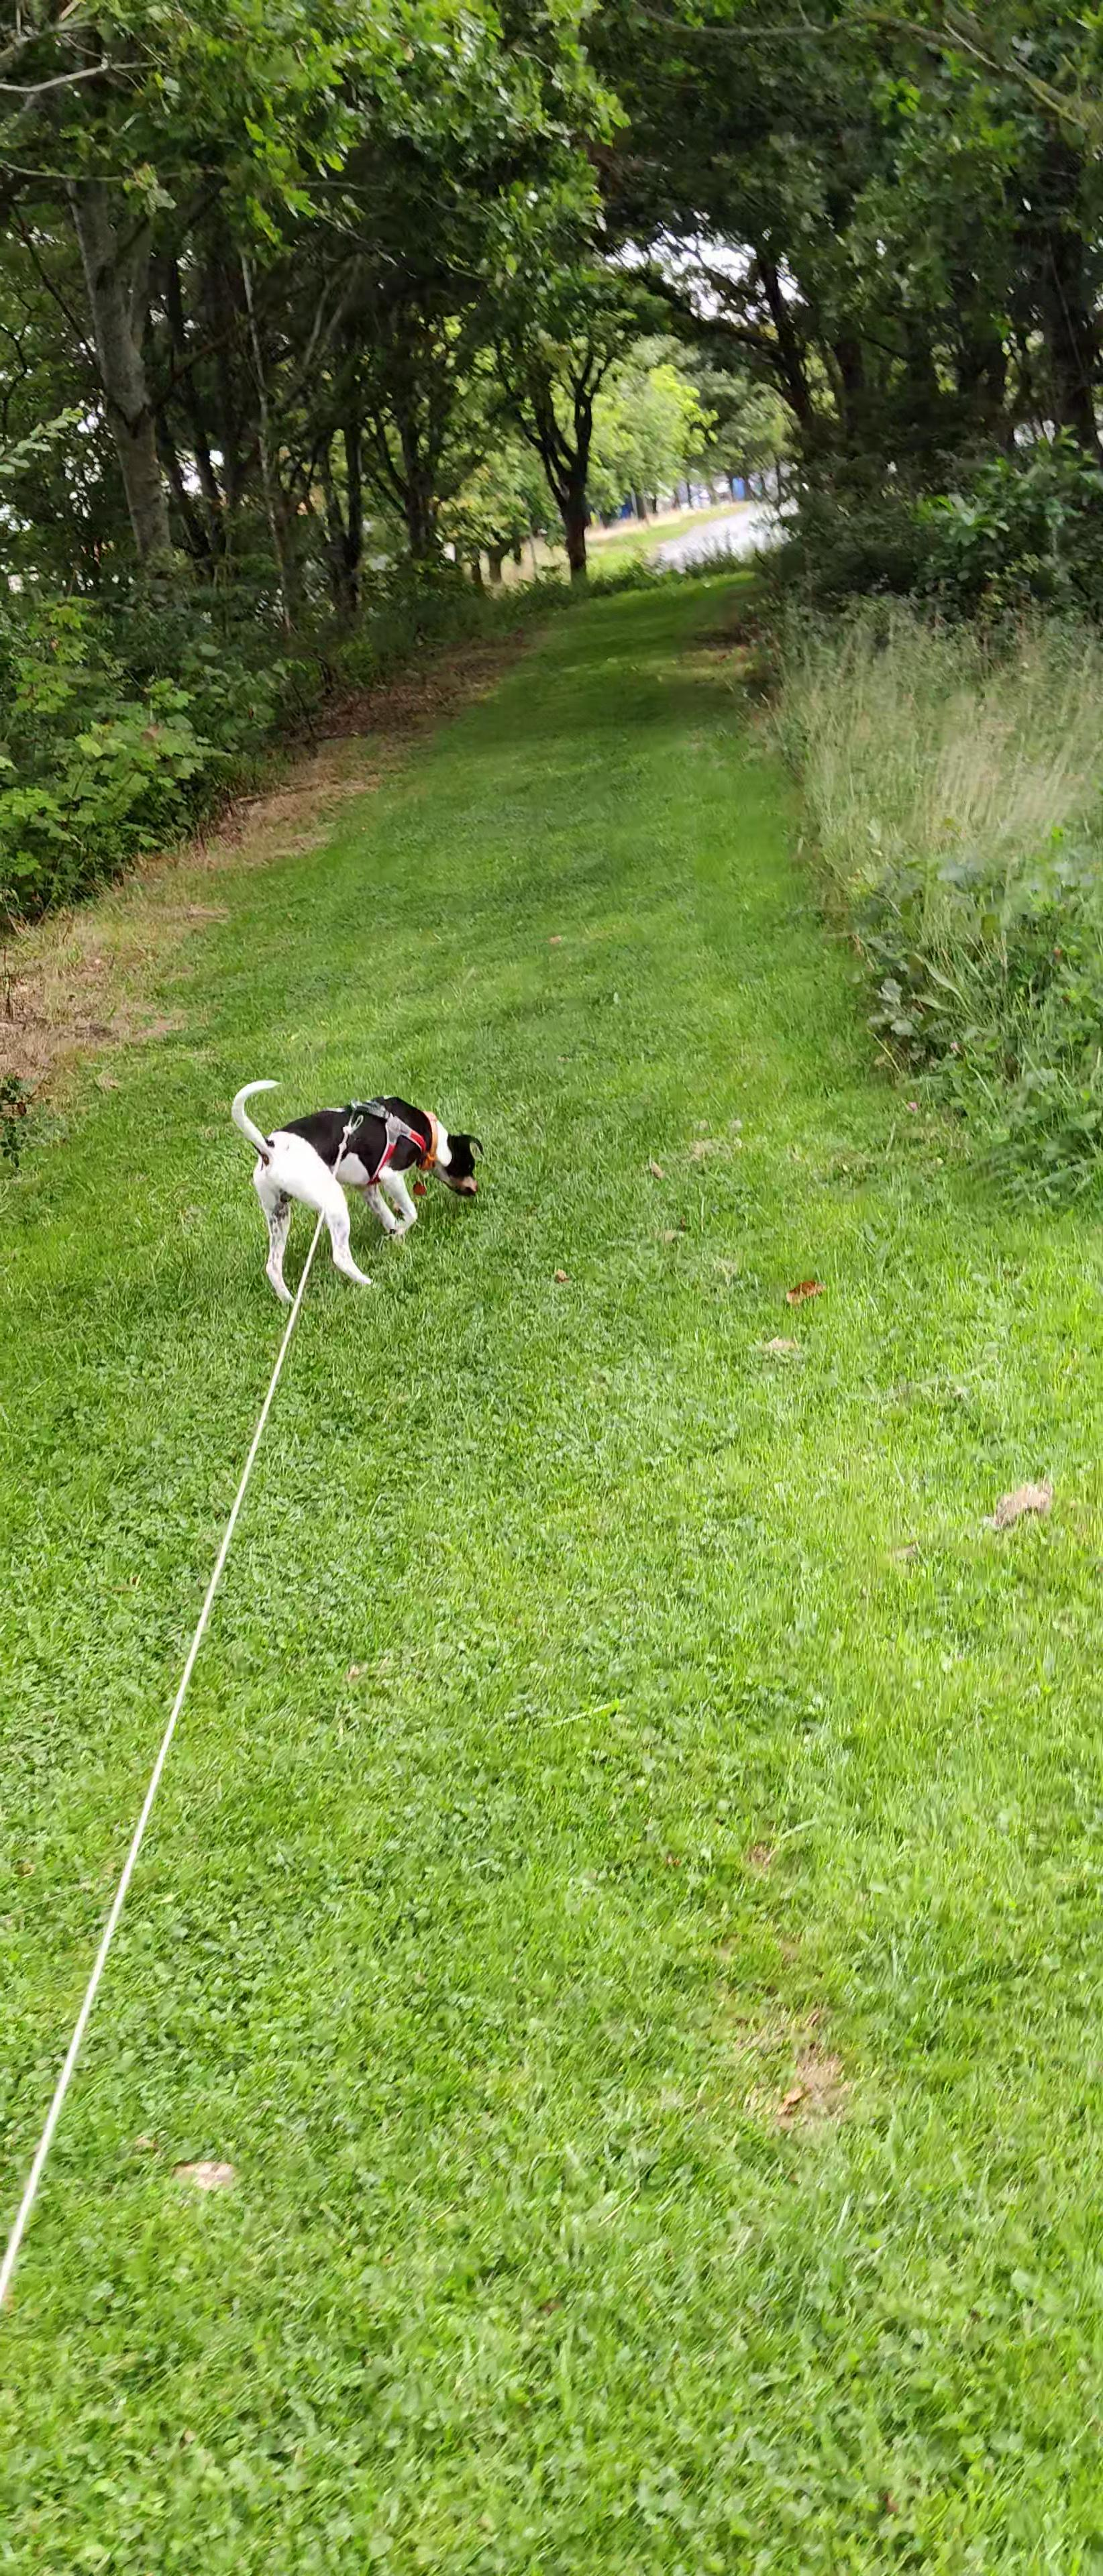Dog: (225, 1076, 487, 1308)
